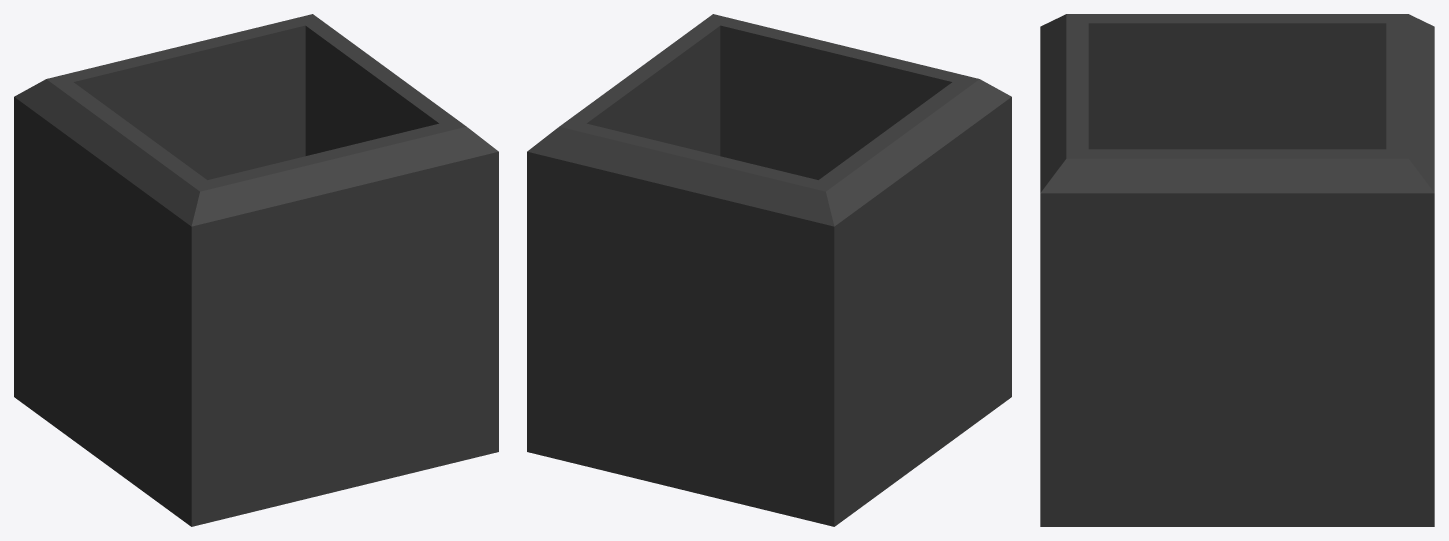
3 views of the same model, side by side, from view 1: azimuth 30°, elevation 25°; view 2: azimuth 150°, elevation 25°; view 3: azimuth 270°, elevation 25° (orthographic). The views are drawn at different scales.
Visible parts, largest first — view 1: 1Box; view 2: 1Box; view 3: 1Box.
Boxes of the visible parts, x1,y1,x2,y2 form: 1Box: [14, 14, 498, 526]; 1Box: [527, 14, 1011, 526]; 1Box: [1040, 14, 1434, 526].
Size of the model in its own units: 200 by 200 by 200.
